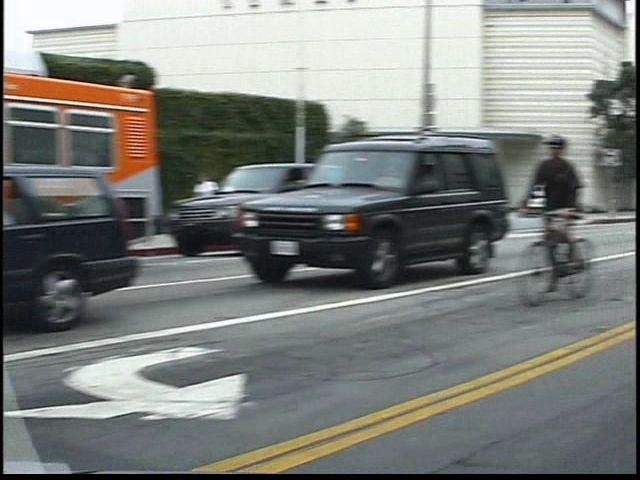person: (547, 130, 610, 296), (213, 172, 242, 243)
